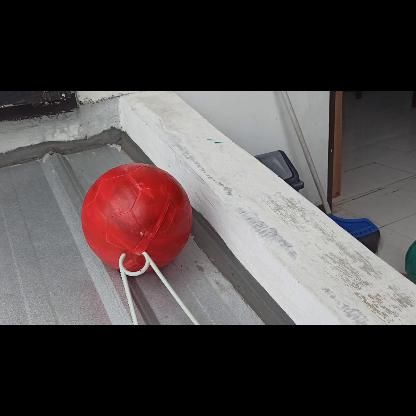red_ball: (83, 162, 192, 272)
